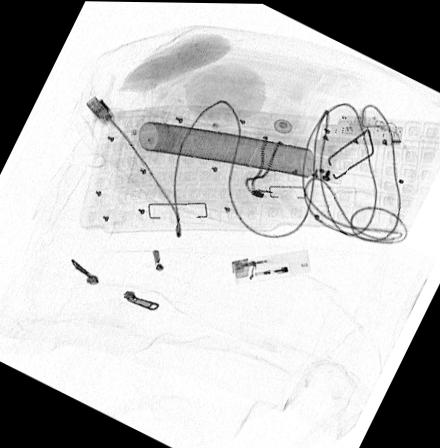Lighter: (230, 248, 309, 284)
